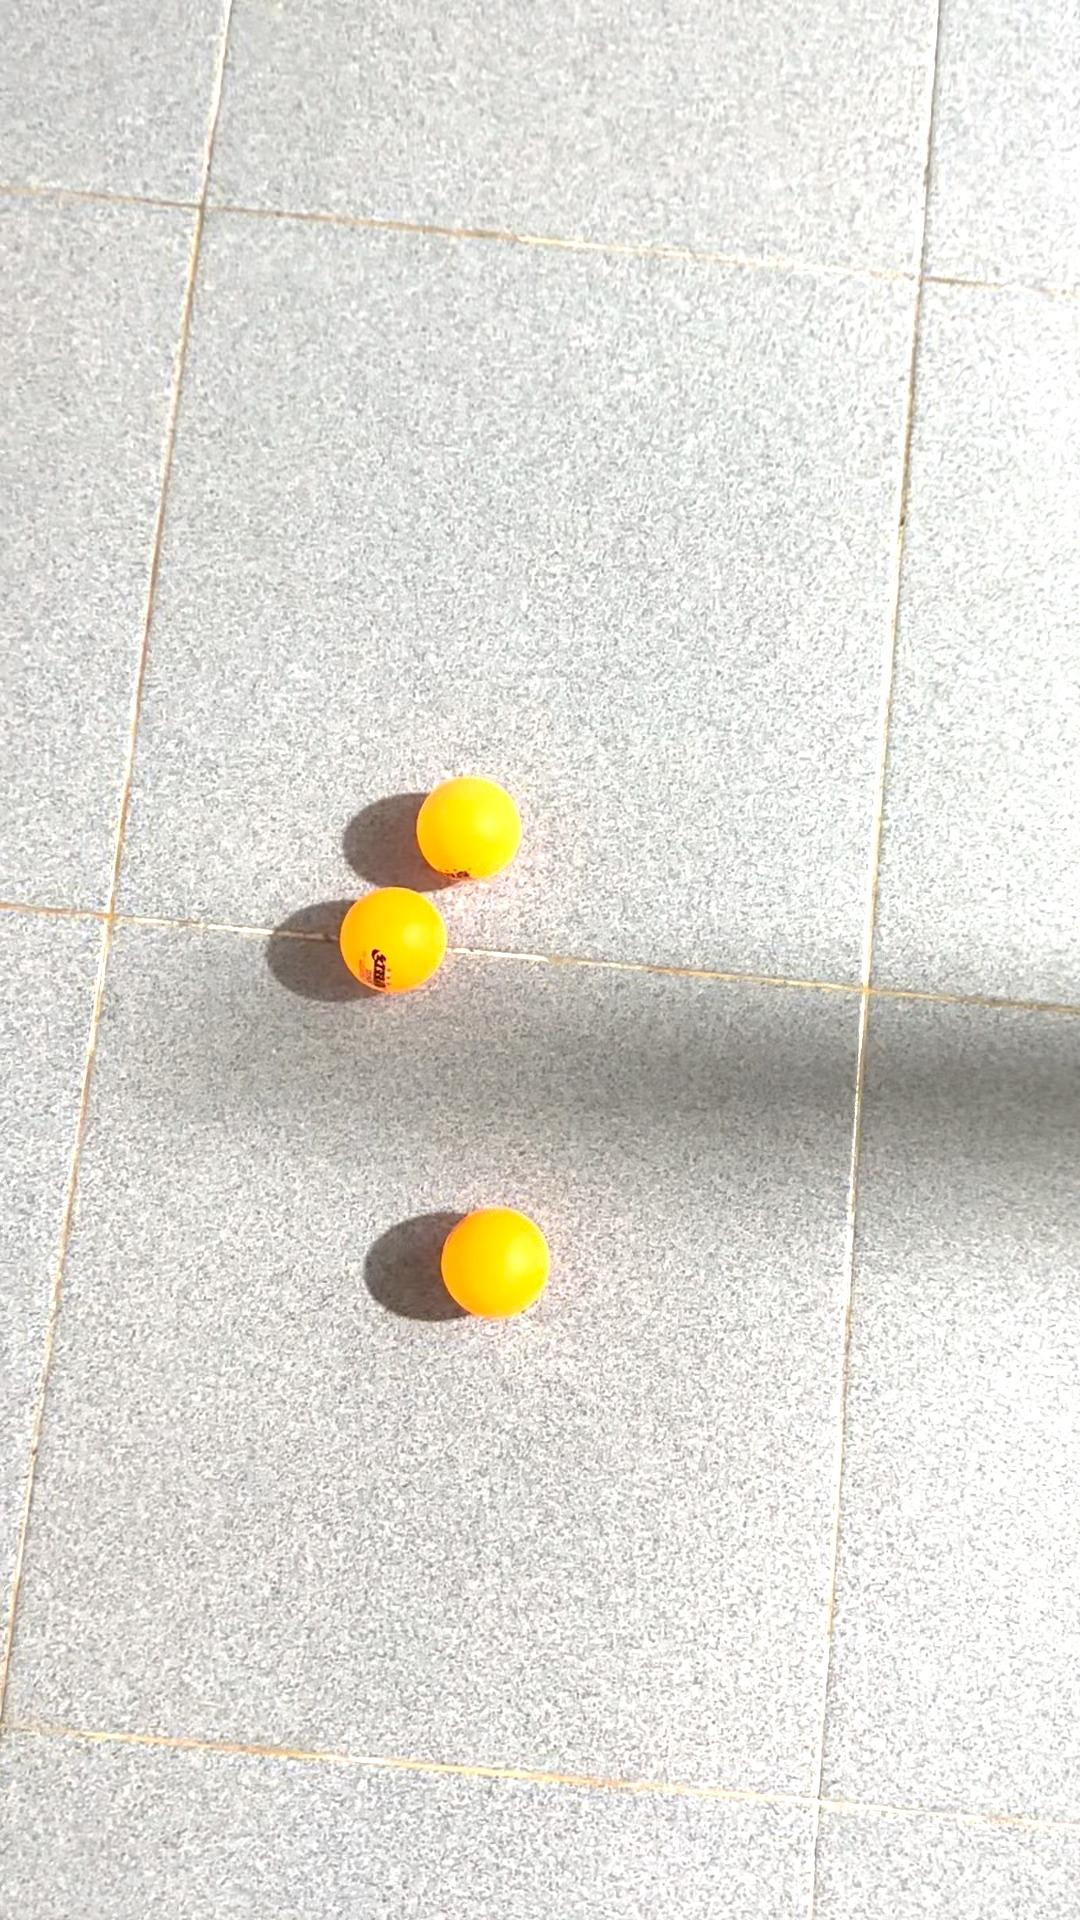oball: (438, 1191, 566, 1328), (328, 881, 458, 1013), (414, 767, 533, 893)
